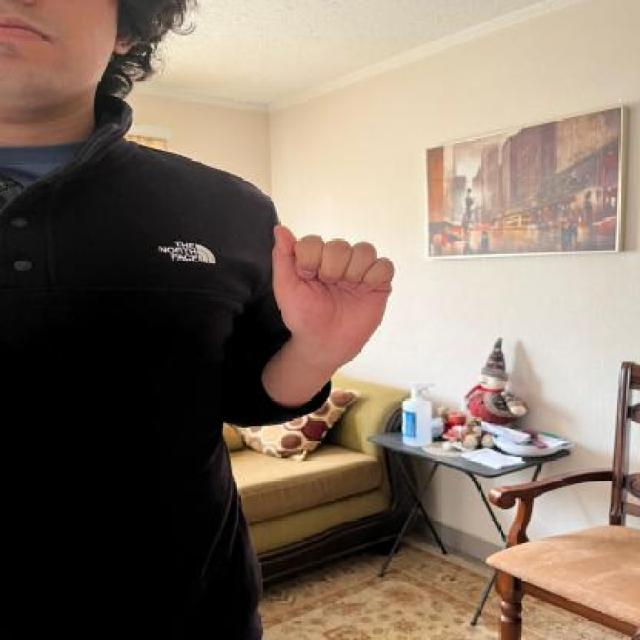A: (258, 221, 402, 356)
